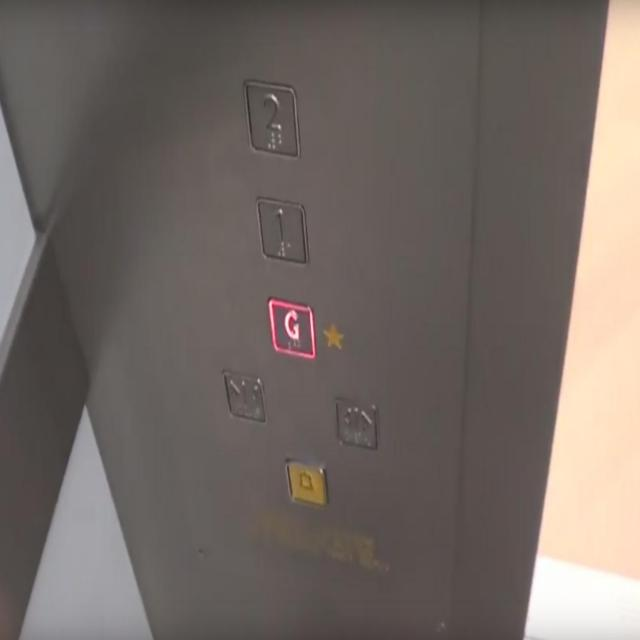1: (252, 189, 310, 276)
2: (241, 72, 303, 169)
G: (267, 296, 319, 369)
alarm: (284, 452, 328, 514)
close: (221, 365, 270, 426)
open: (333, 389, 379, 461)
